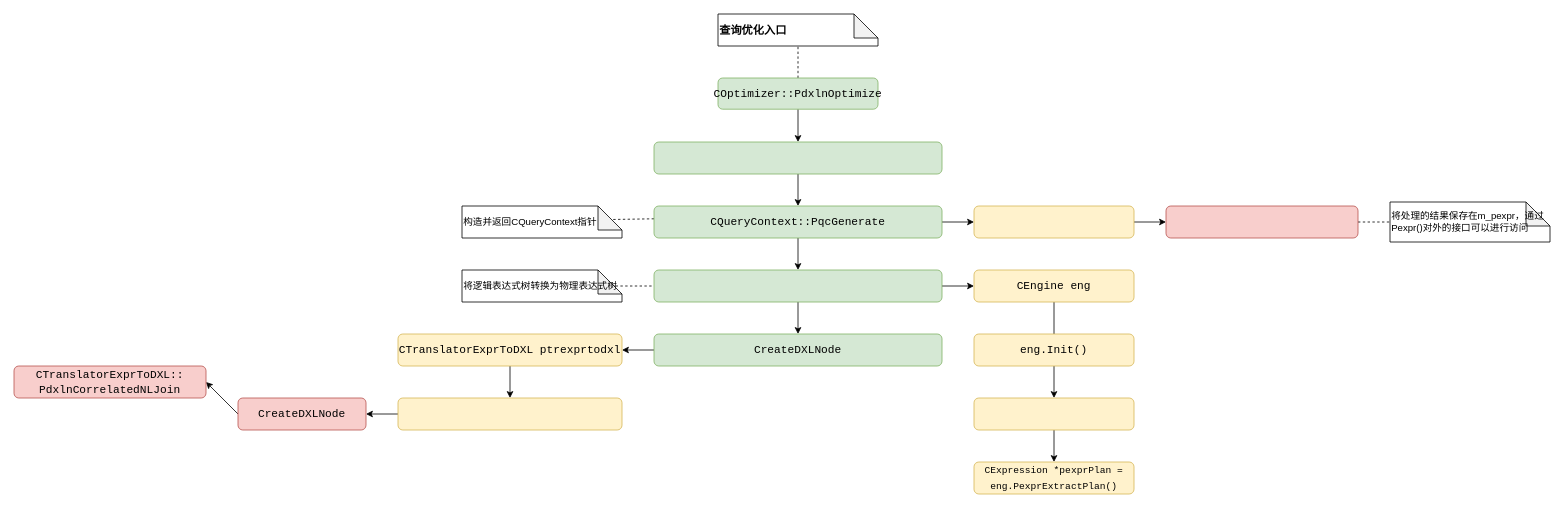
Some shapes in this 1564 by 508 pixel diagram are drawn without their labels. The box of each missing label's shape, as (x1, y1, x2, y2) in pixels:
CQueryContext构造函数: (973, 205, 1134, 238)
CTranslatorDXLToExpr::PexprTranslateQuery: (653, 141, 942, 174)
eng.Optimize(): (973, 397, 1134, 430)
m_pexpr = CExpressionPreprocessor::PexprPreprocess: (1165, 205, 1358, 238)
PexprOptimize: (653, 269, 942, 302)
ptrexprtodxl.PdxlnTranslate: (397, 397, 622, 430)
